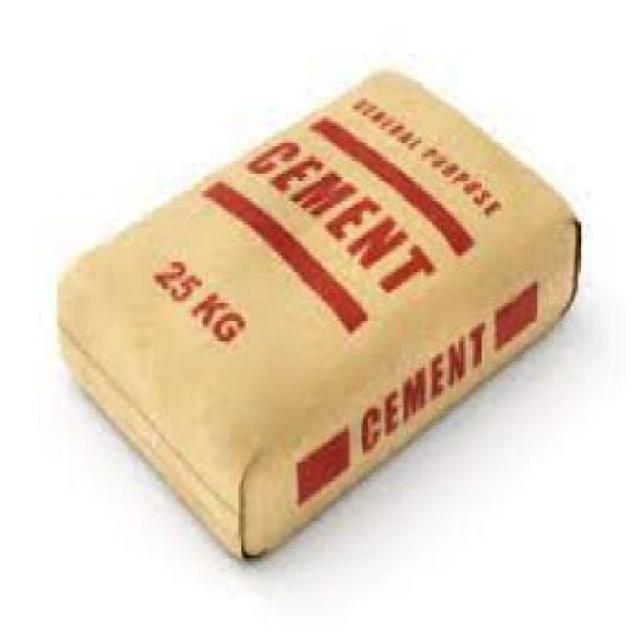gunny_bag: (67, 66, 572, 472)
